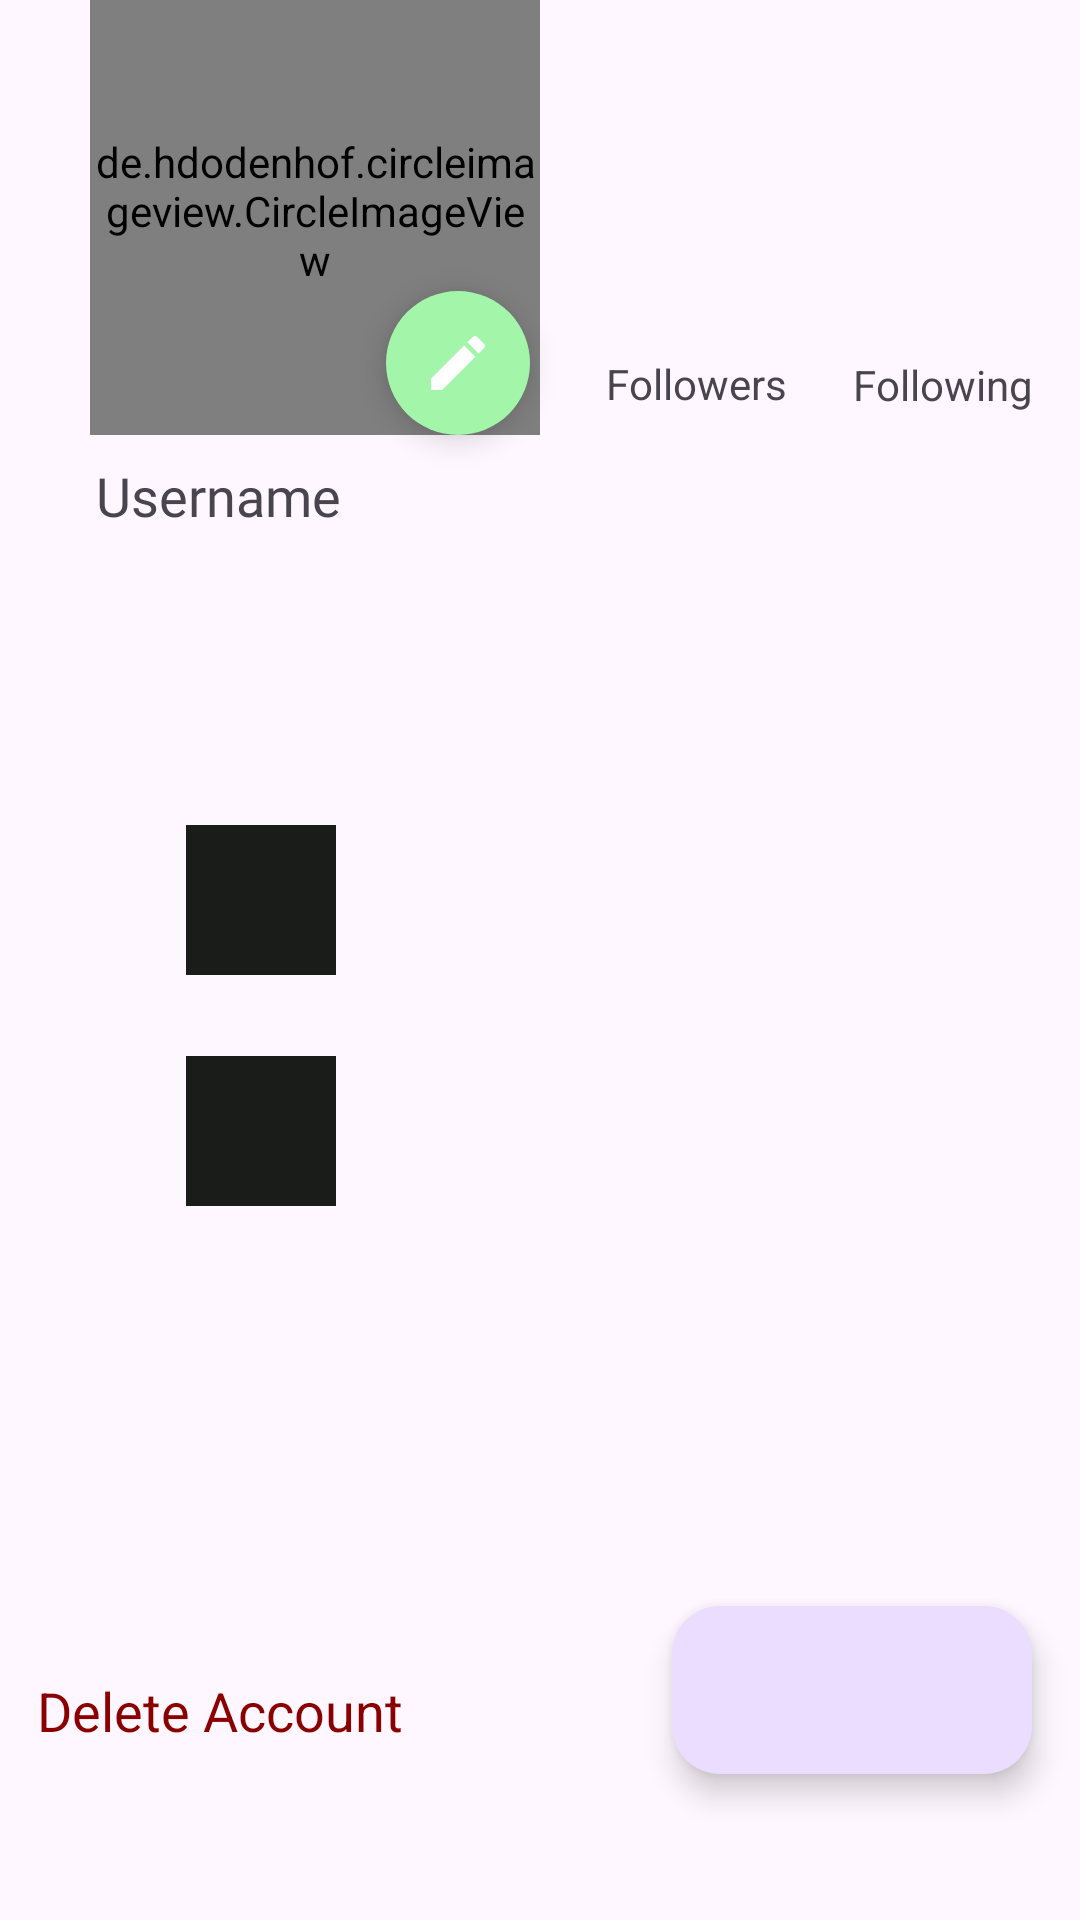

Where to tap for icons on this 1080px x 1920px app screen, as (x,y):
edit 24grey: (458,363)
